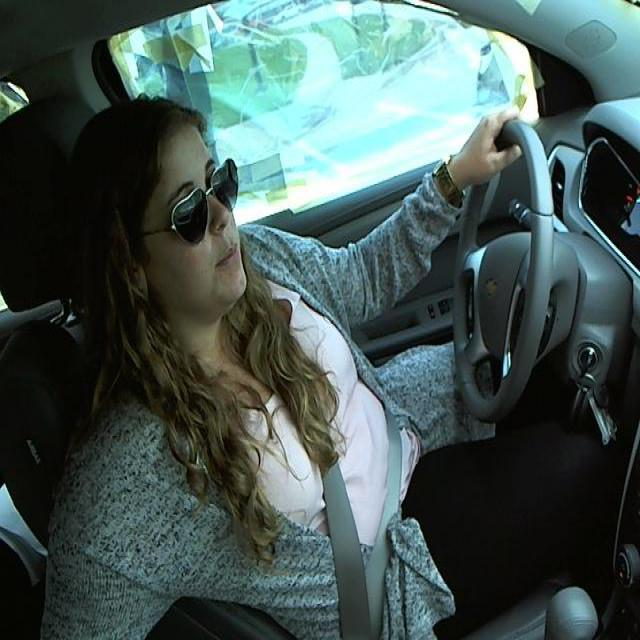seatbelt: (285, 388, 411, 636)
